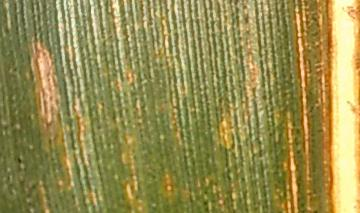tarspot: (16, 155, 24, 165)
